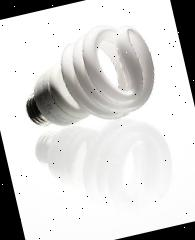lightbulb: (11, 15, 163, 138), (30, 104, 180, 227)
